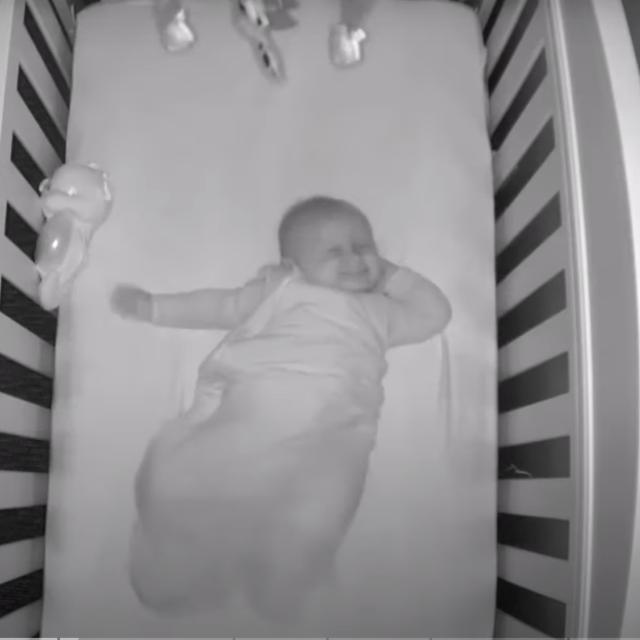non-dog: (102, 188, 459, 628)
